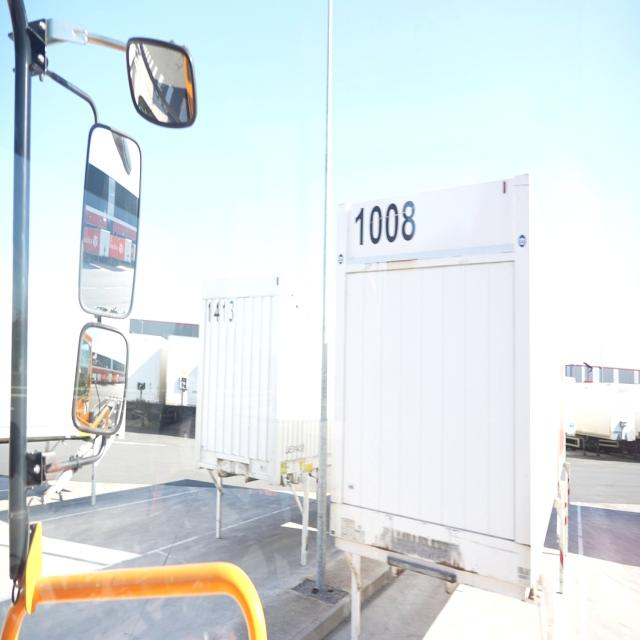Code: (353, 197, 416, 250), (204, 292, 238, 329)
